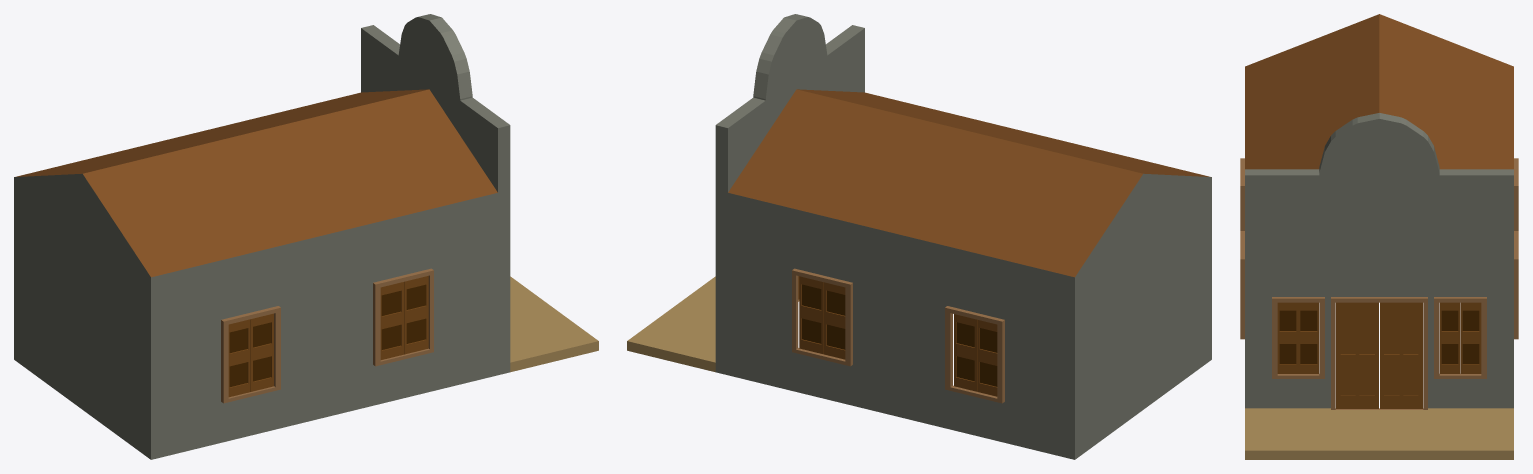
Rendered from House_4.fbx.
3 renders of one model, left to right at view 1: azimuth 30°, elevation 25°; view 2: azimuth 150°, elevation 25°; view 3: azimuth 270°, elevation 25°, orthographic.
Parts seen in each view (by area): view 1: House_4; view 2: House_4; view 3: House_4.
Part boxes in pixels (box(x1,y1,x2,y2)): House_4: box(14, 14, 598, 459); House_4: box(627, 14, 1211, 459); House_4: box(1240, 14, 1518, 459).
Size of the model in its own units: 23.72 by 15.42 by 13.02.
